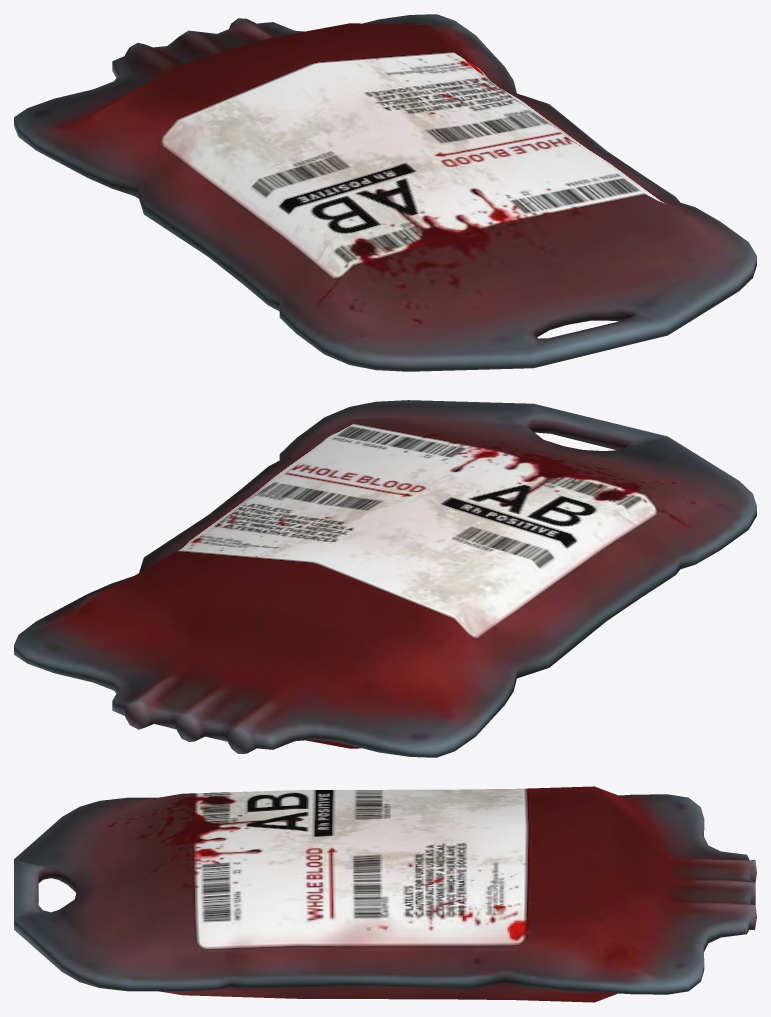
Rendered from bloodbag.glb.
3 views of the same model, one above another, from view 1: azimuth 30°, elevation 25°; view 2: azimuth 150°, elevation 25°; view 3: azimuth 270°, elevation 25° (orthographic). The views are drawn at different scales.
Visible parts, largest first — view 1: BloodBag_LOD0; view 2: BloodBag_LOD0; view 3: BloodBag_LOD0.
Boxes of the visible parts, x1,y1,x2,y2 form: BloodBag_LOD0: (14,14,756,371); BloodBag_LOD0: (14,400,756,757); BloodBag_LOD0: (14,786,756,1002).
Bounding box in the file's own units: 0.1985 × 0.0631 × 0.3231.
1 material, 1 textured.
